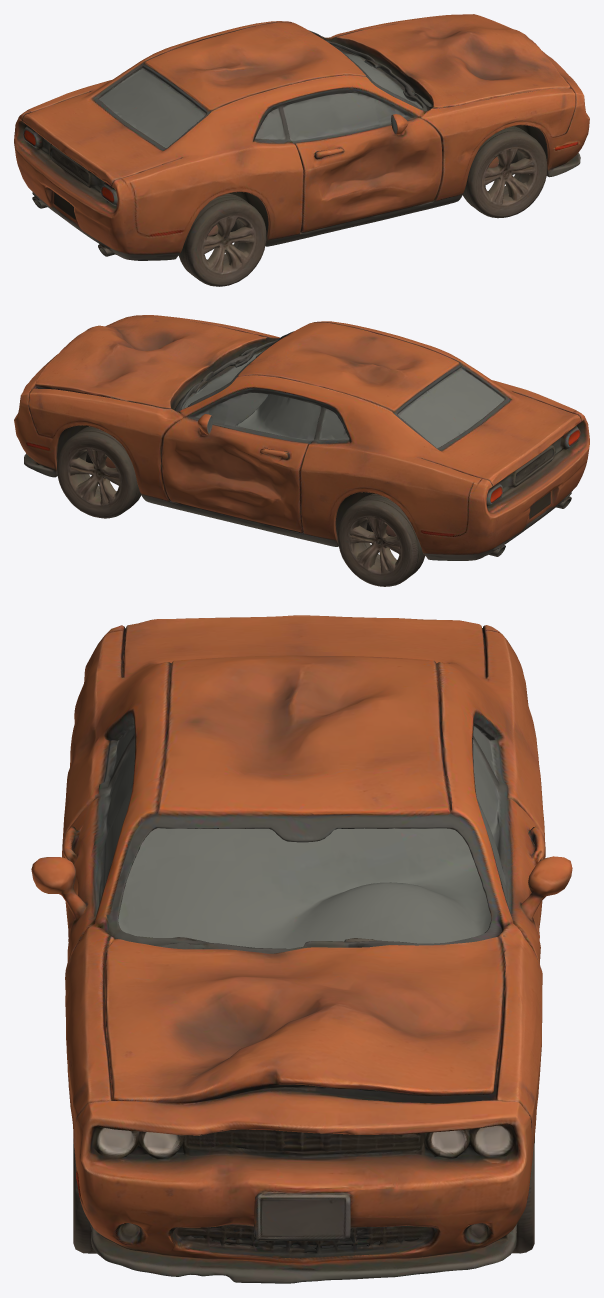
The model's file is cardamaged3d.glb.
3 views of the same model, one above another, from view 1: azimuth 30°, elevation 25°; view 2: azimuth 150°, elevation 25°; view 3: azimuth 270°, elevation 25° (orthographic). The views are drawn at different scales.
Parts seen in each view (by area): view 1: tripo_node_d9035611-925e-4c2e-b0e5-7c9de69c7fb0; view 2: tripo_node_d9035611-925e-4c2e-b0e5-7c9de69c7fb0; view 3: tripo_node_d9035611-925e-4c2e-b0e5-7c9de69c7fb0.
Boxes of the visible parts, <box> form: tripo_node_d9035611-925e-4c2e-b0e5-7c9de69c7fb0: <box>14,14,589,286</box>; tripo_node_d9035611-925e-4c2e-b0e5-7c9de69c7fb0: <box>14,315,589,586</box>; tripo_node_d9035611-925e-4c2e-b0e5-7c9de69c7fb0: <box>31,615,572,1283</box>.
Bounding box in the file's own units: 1 × 0.3261 × 0.4706.
1 material, 1 textured.
